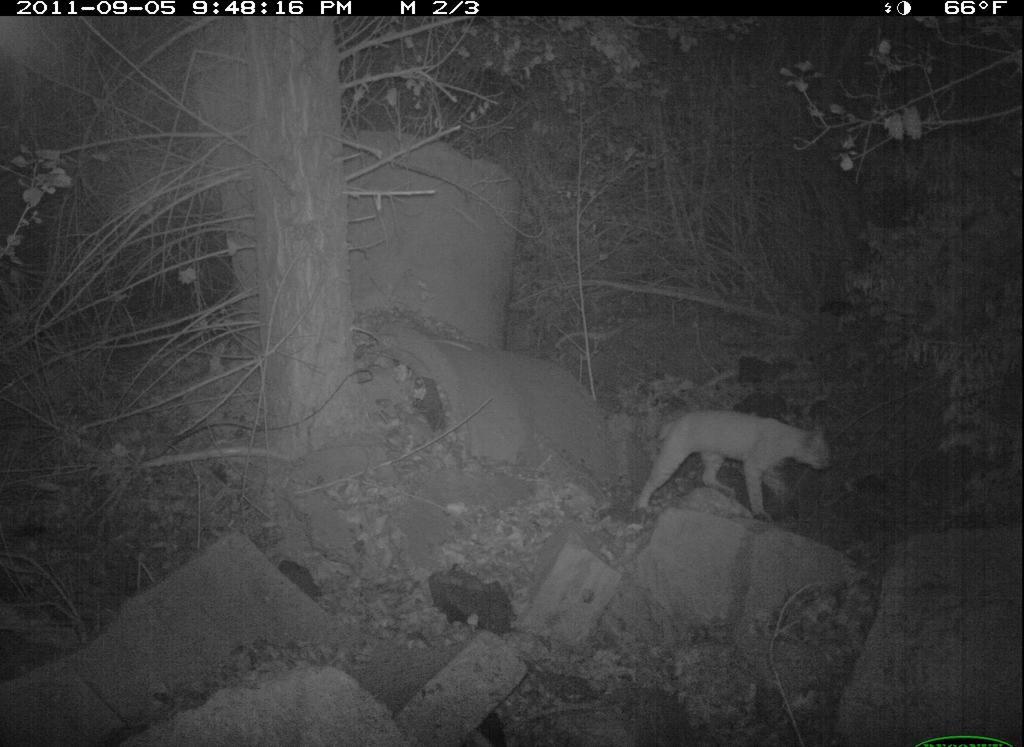bobcat: (630, 408, 840, 534)
